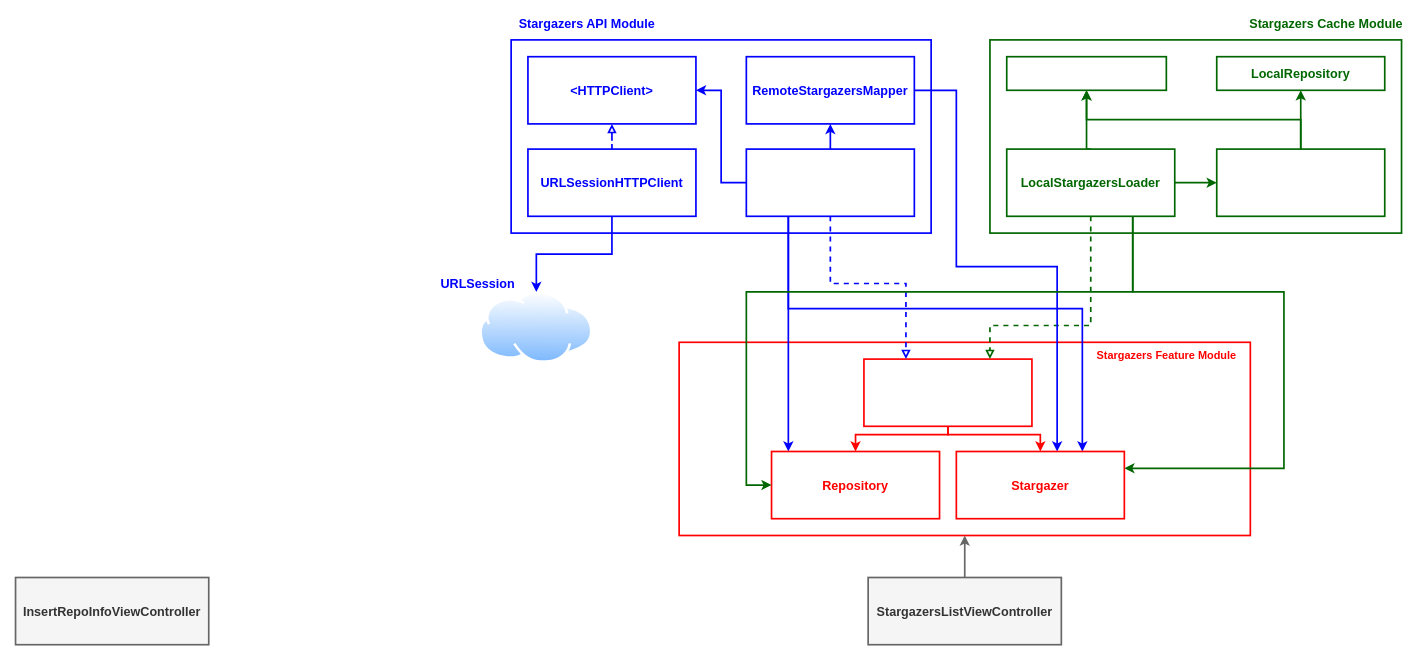
Image size: 1424x659. Some labels were removed from this diagram. The shapes that lost their labels are listed below. From the top down, each one's box as (x1, y1, x2, y2) in pixels, then its label:
(1005, 55, 1167, 91): LocalStargazer
(745, 148, 915, 217): RemoteStargazersLoader
(1215, 148, 1385, 217): StargazersStore
(863, 358, 1032, 427): <StargazersLoader>
